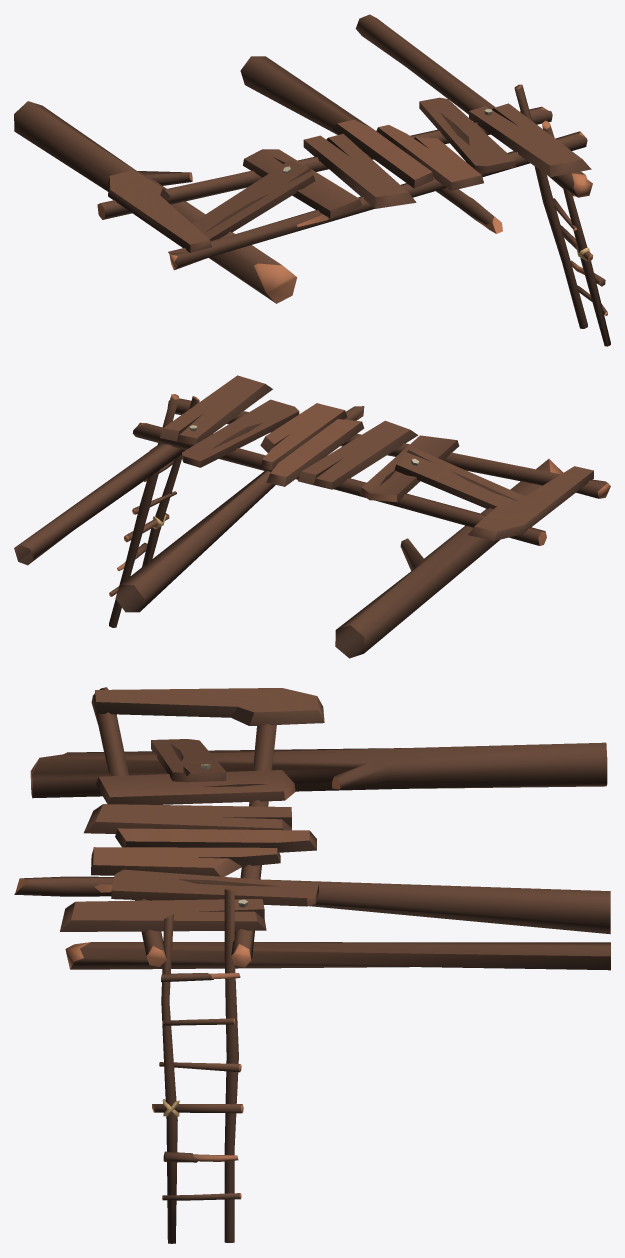
File: Suspended_Ramp_1D_Descending.fbx
3 renders of one model, top to bottom at view 1: azimuth 30°, elevation 25°; view 2: azimuth 150°, elevation 25°; view 3: azimuth 270°, elevation 25°, orthographic. The views are drawn at different scales.
Parts seen in each view (by area): view 1: Suspended_Ramp_1D_Descending; view 2: Suspended_Ramp_1D_Descending; view 3: Suspended_Ramp_1D_Descending.
Part boxes in pixels (<box>): Suspended_Ramp_1D_Descending: <box>14,14,610,346</box>; Suspended_Ramp_1D_Descending: <box>14,375,610,658</box>; Suspended_Ramp_1D_Descending: <box>14,687,610,1243</box>.
Size of the model in its own units: 6.47 by 3.4 by 5.8.
